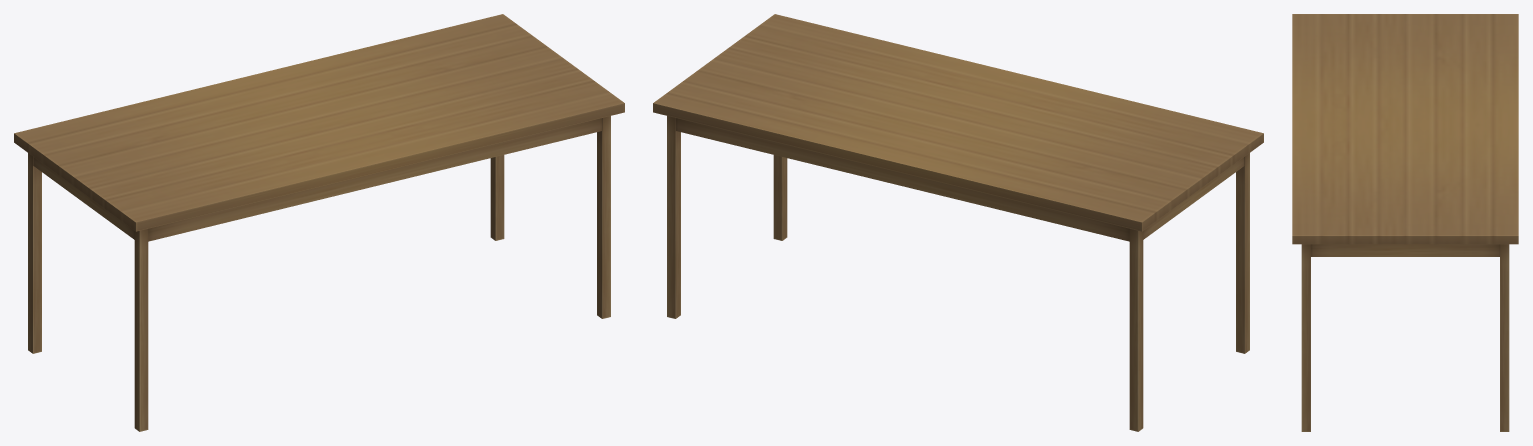
The model's file is jsf_Table_01.fbx.
3 views of the same model, side by side, from view 1: azimuth 30°, elevation 25°; view 2: azimuth 150°, elevation 25°; view 3: azimuth 270°, elevation 25° (orthographic). The views are drawn at different scales.
Visible parts, largest first — view 1: jsf_Table_01; view 2: jsf_Table_01; view 3: jsf_Table_01.
Boxes of the visible parts, x1,y1,x2,y2 form: jsf_Table_01: [14, 14, 624, 431]; jsf_Table_01: [653, 14, 1263, 431]; jsf_Table_01: [1292, 14, 1518, 431].
Bounding box in the file's own units: 166 × 70 × 71.81.
